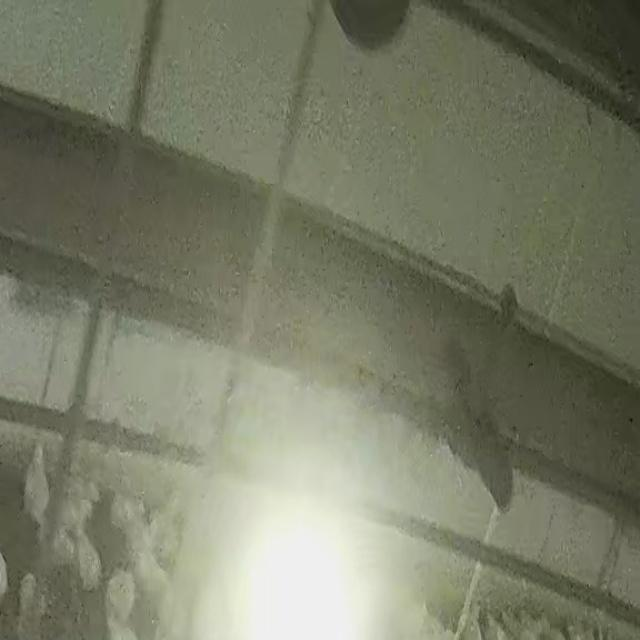chicken: (20, 446, 49, 523), (74, 528, 104, 592), (19, 574, 52, 624), (105, 571, 131, 619), (54, 502, 90, 528)
